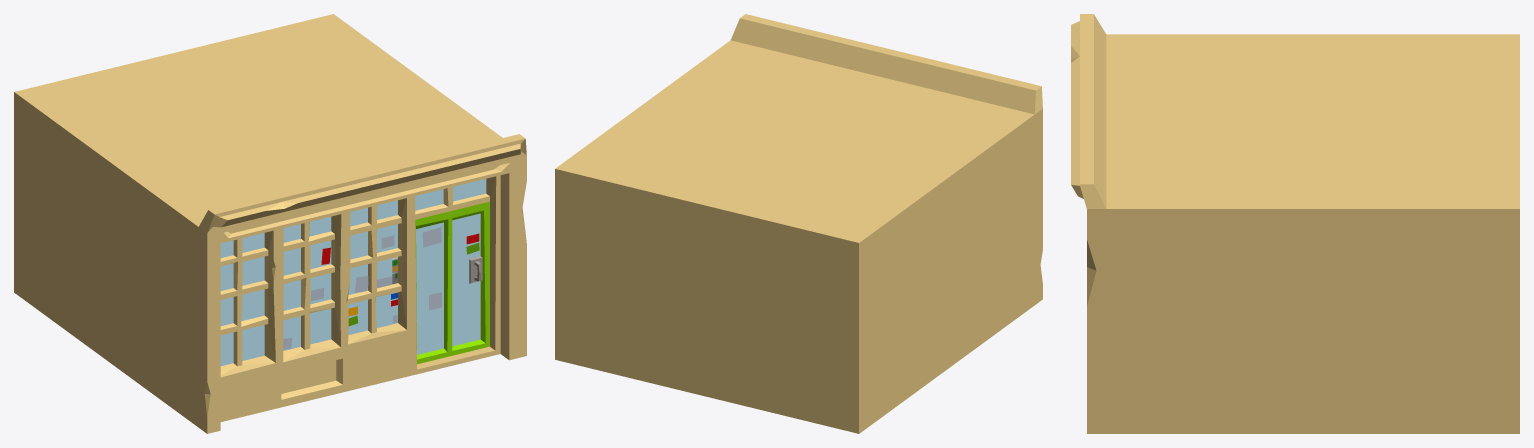
The model's file is SM_Bld_Shop_02_edited.fbx.
3 renders of one model, left to right at view 1: azimuth 30°, elevation 25°; view 2: azimuth 150°, elevation 25°; view 3: azimuth 270°, elevation 25°, orthographic. The views are drawn at different scales.
Visible parts, largest first — view 1: SM_Bld_Shop_02.001; view 2: SM_Bld_Shop_02.001; view 3: SM_Bld_Shop_02.001.
Boxes of the visible parts, x1=… form: SM_Bld_Shop_02.001: x1=14, y1=14, x2=526, y2=433; SM_Bld_Shop_02.001: x1=555, y1=14, x2=1042, y2=433; SM_Bld_Shop_02.001: x1=1071, y1=14, x2=1519, y2=433.
Size of the model in its own units: 5 by 3.3 by 5.43.
